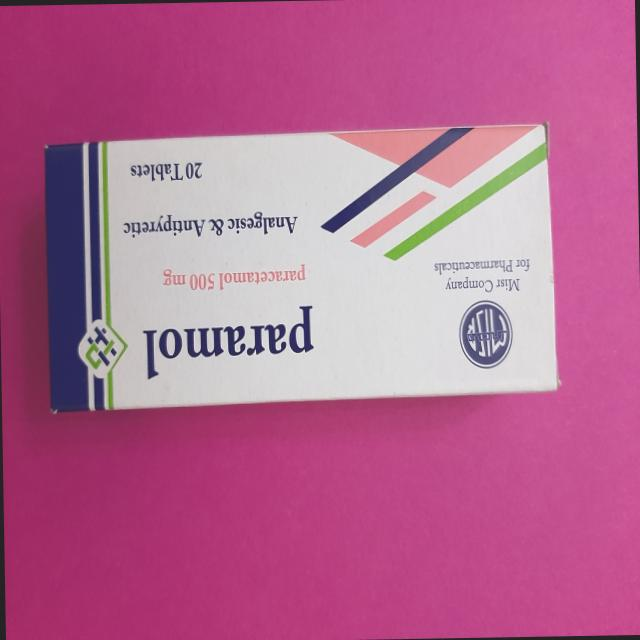medicine_packaging: (28, 116, 576, 426)
